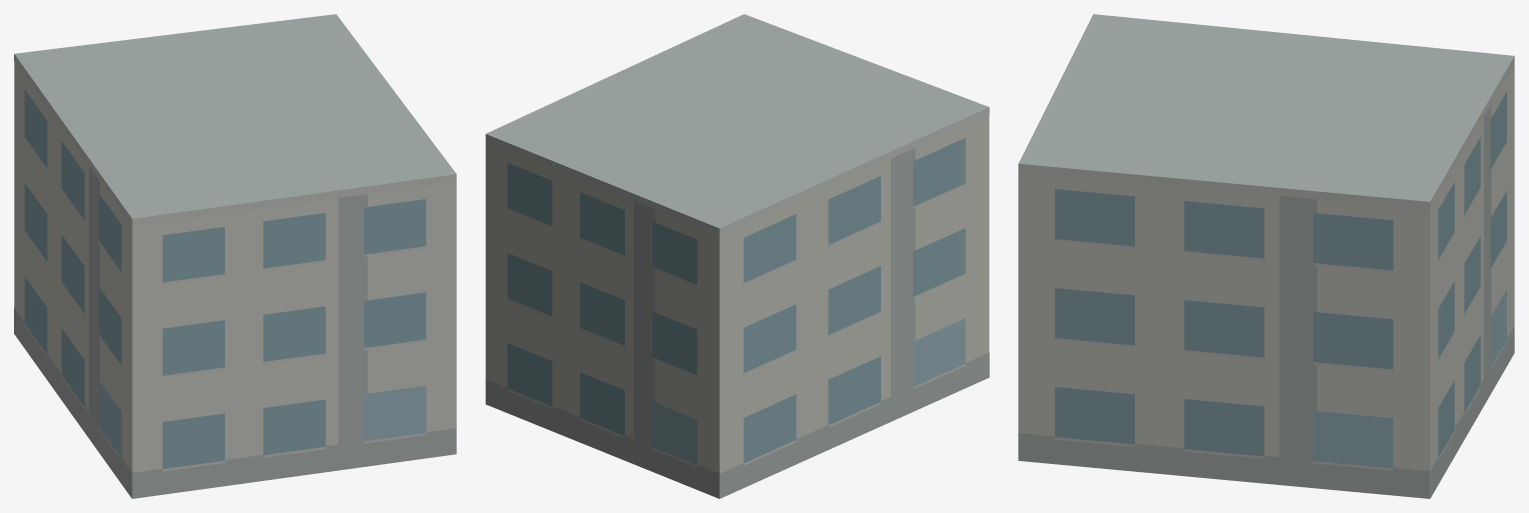
File: survey-upis-32961213.glb
3 views of the same model, side by side, from view 1: azimuth 30°, elevation 25°; view 2: azimuth 150°, elevation 25°; view 3: azimuth 270°, elevation 25° (orthographic). The views are drawn at different scales.
Visible parts, largest first — view 1: survey-upis-32961213.tmp; view 2: survey-upis-32961213.tmp; view 3: survey-upis-32961213.tmp.
Part boxes in pixels (box(x1,y1,x2,y2)): survey-upis-32961213.tmp: box(14, 14, 456, 498); survey-upis-32961213.tmp: box(485, 14, 989, 498); survey-upis-32961213.tmp: box(1018, 14, 1514, 498).
Bounding box in the file's own units: 12.42 × 9.15 × 13.86.
